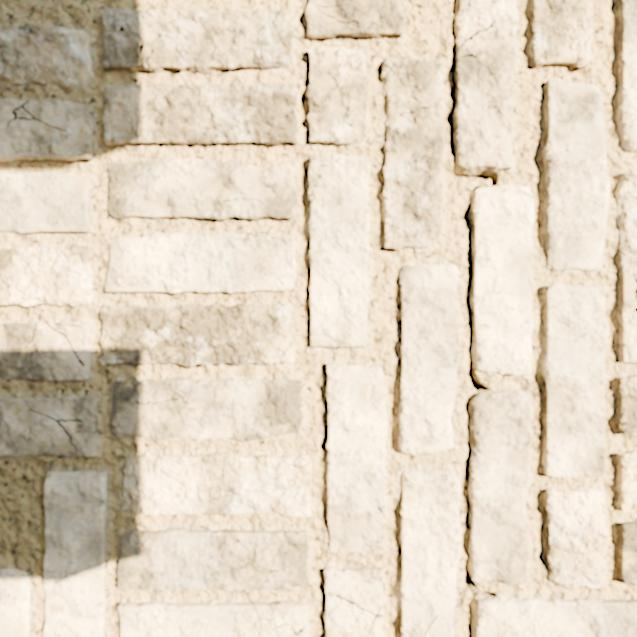crack: (447, 0, 636, 636), (100, 5, 292, 74), (541, 78, 609, 270), (541, 284, 608, 477), (121, 451, 312, 518), (102, 81, 297, 146), (381, 54, 445, 250), (100, 303, 295, 367), (111, 376, 302, 441), (116, 528, 308, 591), (398, 264, 461, 454), (308, 154, 369, 347), (107, 158, 295, 220), (105, 232, 296, 293), (326, 363, 387, 553), (43, 470, 106, 636), (399, 468, 461, 636), (118, 601, 309, 636), (544, 488, 609, 589), (306, 46, 367, 145), (0, 98, 95, 161), (0, 23, 93, 87), (0, 243, 94, 306), (0, 396, 97, 457), (0, 171, 90, 233), (0, 321, 93, 380), (529, 0, 593, 68), (323, 565, 384, 636), (304, 0, 404, 39), (616, 170, 636, 363), (617, 0, 636, 152), (0, 569, 30, 636), (615, 375, 636, 434), (616, 450, 636, 511), (618, 520, 636, 586)
